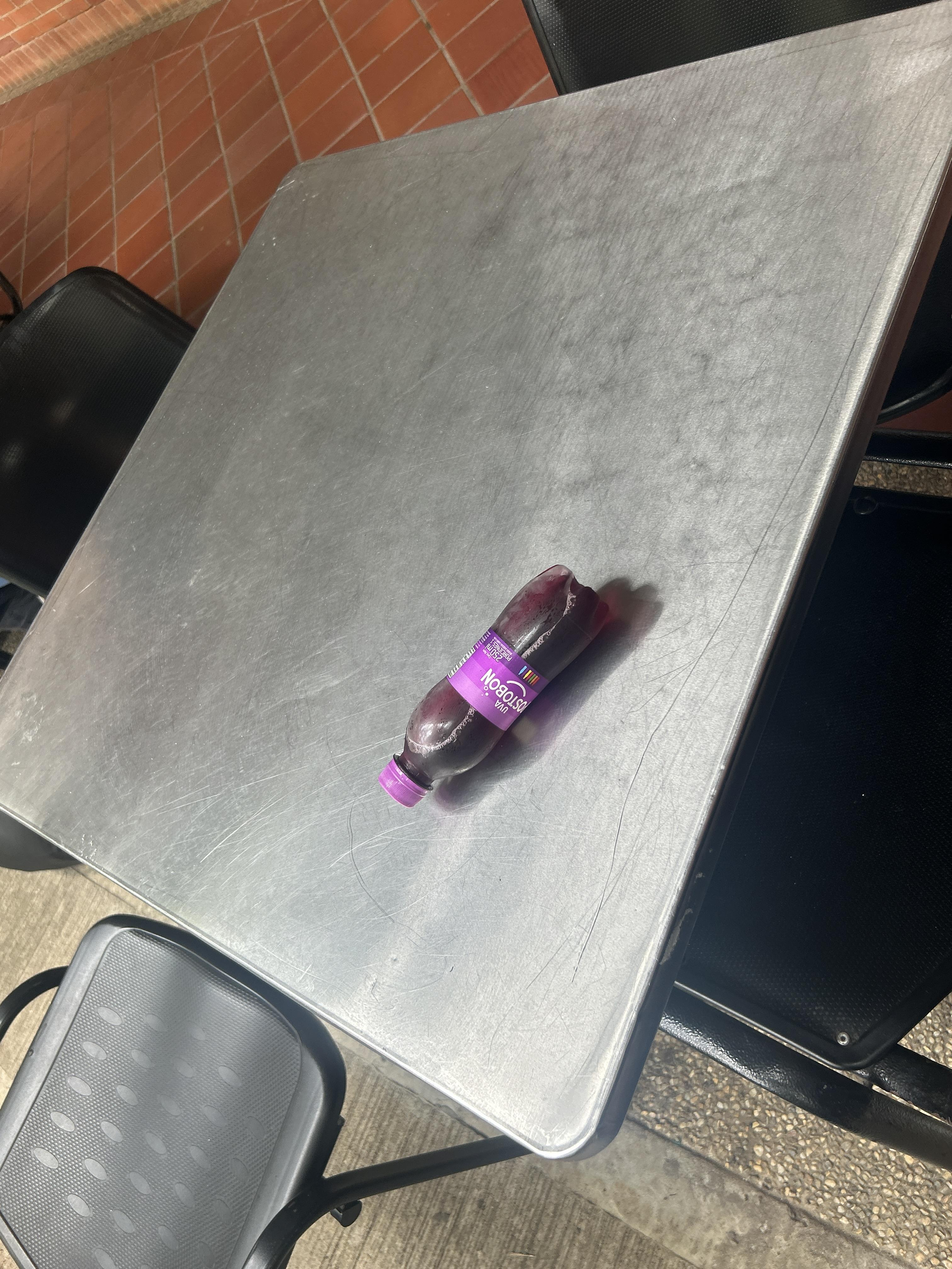gorra: (447, 629, 549, 730)
uva: (206, 404, 777, 975)
